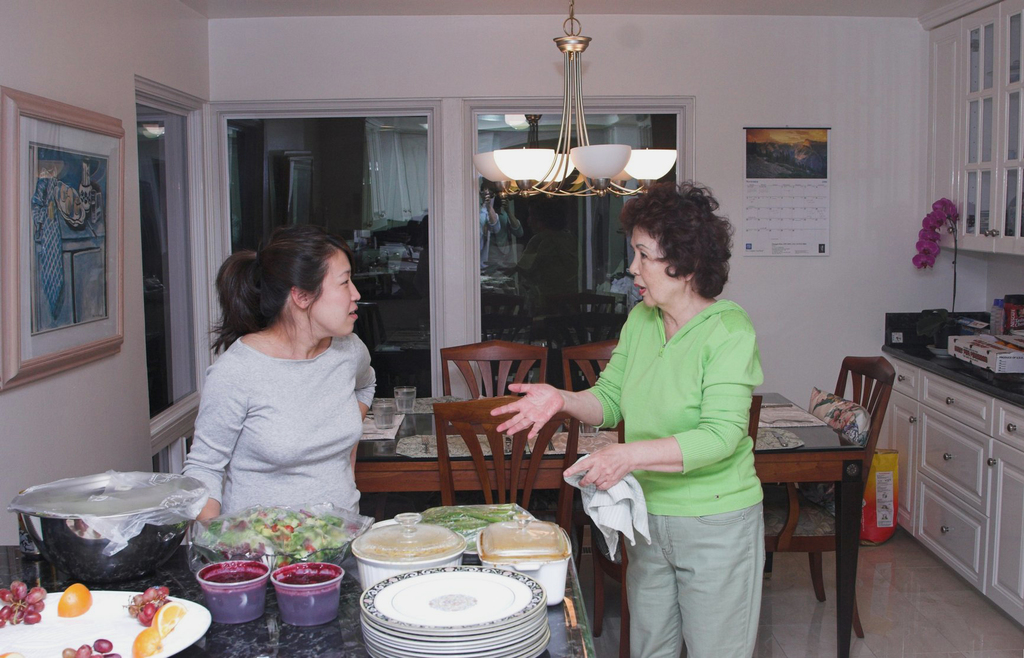plate: (359, 565, 542, 625)
